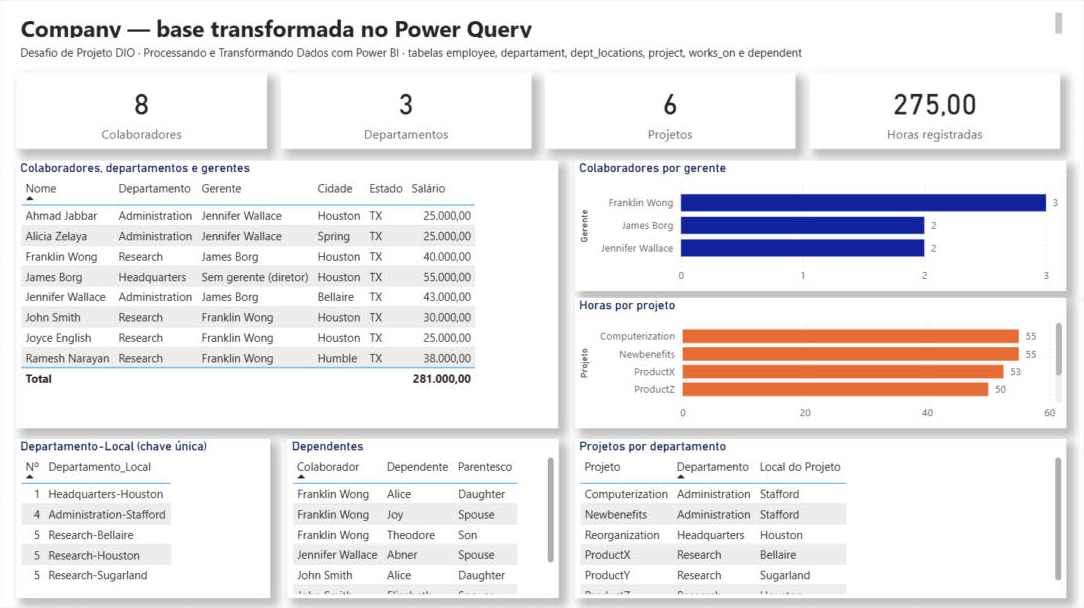

This screenshot's page, from the dashboard's own definition file:
{"tool":"powerbi","page":{"name":"Verificação da base","canvas":[1280,720],"ordinal":0},"visuals":[{"type":"textbox","box":[20,12,1240,40],"z":0},{"type":"textbox","box":[20,50,1240,28],"z":100},{"type":"card","fields":{"Values":["CountNonNull(employee.Ssn)"]},"box":[20,88,296,90],"z":1000},{"type":"card","fields":{"Values":["CountNonNull(departament.Dnumber)"]},"box":[332,88,296,90],"z":1001},{"type":"card","fields":{"Values":["CountNonNull(project.Pnumber)"]},"box":[644,88,296,90],"z":1002},{"type":"card","fields":{"Values":["Sum(works_on.Horas)"]},"box":[956,88,296,90],"z":1003},{"type":"tableEx","title":"Colaboradores, departamentos e gerentes","fields":{"Values":["employee.Nome","employee.Departamento","employee.Gerente","employee.Cidade","employee.Estado","Sum(employee.Salário)"]},"box":[20,192,640,316],"z":2000},{"type":"clusteredBarChart","title":"Colaboradores por gerente","fields":{"Category":["colaboradores_por_gerente.Gerente"],"Y":["Sum(colaboradores_por_gerente.Colaboradores)"]},"box":[680,192,580,154],"z":3000},{"type":"clusteredBarChart","title":"Horas por projeto","fields":{"Category":["works_on.Projeto"],"Y":["Sum(works_on.Horas)"]},"box":[680,354,580,154],"z":4000},{"type":"tableEx","title":"Departamento-Local (chave única)","fields":{"Values":["dept_locations.Dnumber","dept_locations.Departamento_Local"]},"box":[20,520,300,188],"z":5000},{"type":"tableEx","title":"Dependentes","fields":{"Values":["dependent.Colaborador","dependent.Dependente","dependent.Parentesco"]},"box":[340,520,320,188],"z":6000},{"type":"tableEx","title":"Projetos por departamento","fields":{"Values":["project.Projeto","project.Departamento","project.Local do Projeto"]},"box":[680,520,580,188],"z":7000}]}

Visuals, with their boxes in screenshot pixels (x1, y1, x2, y2), scaled from the page's 1280x720 canvas onto the 1084x608 screenshot:
textbox: [17,10,1067,44]
textbox: [17,42,1067,66]
card - CountNonNull(employee.Ssn): [17,74,268,150]
card - CountNonNull(departament.Dnumber): [281,74,532,150]
card - CountNonNull(project.Pnumber): [545,74,796,150]
card - Sum(works_on.Horas): [810,74,1060,150]
"Colaboradores, departamentos e gerentes" tableEx: [17,162,559,429]
"Colaboradores por gerente" clusteredBarChart: [576,162,1067,292]
"Horas por projeto" clusteredBarChart: [576,299,1067,429]
"Departamento-Local (chave única)" tableEx: [17,439,271,598]
"Dependentes" tableEx: [288,439,559,598]
"Projetos por departamento" tableEx: [576,439,1067,598]
